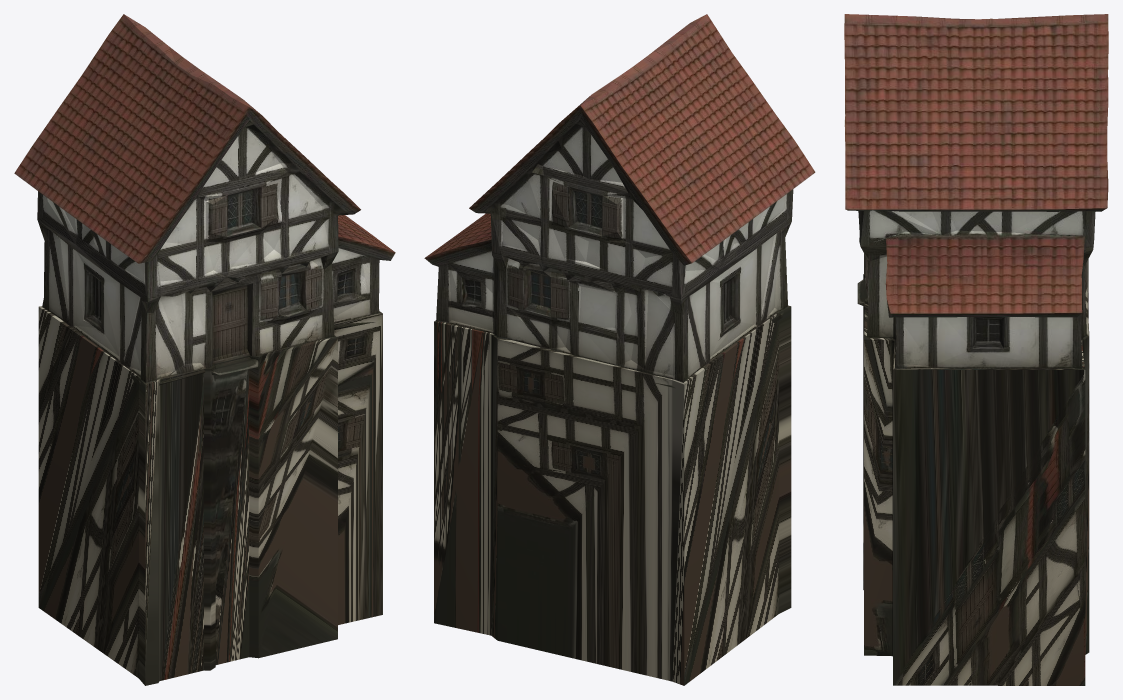
Rendered from cottage_b.glb.
3 views of the same model, side by side, from view 1: azimuth 30°, elevation 25°; view 2: azimuth 150°, elevation 25°; view 3: azimuth 270°, elevation 25° (orthographic). The views are drawn at different scales.
Parts seen in each view (by area): view 1: cottage_b_export; view 2: cottage_b_export; view 3: cottage_b_export.
Part boxes in pixels (x1=…): cottage_b_export: x1=14, y1=14, x2=395, y2=685; cottage_b_export: x1=424, y1=14, x2=815, y2=685; cottage_b_export: x1=844, y1=14, x2=1108, y2=685.
Bounding box in the file's own units: 18 × 34.73 × 14.07.
Materials: 2 (2 with a texture image).
